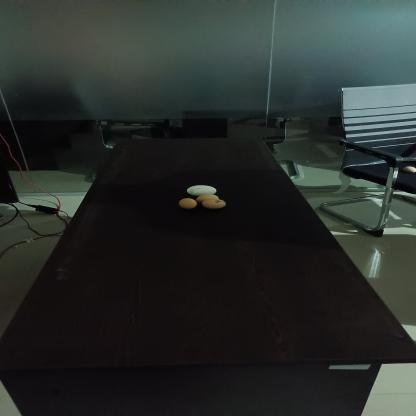egg: (186, 184, 217, 196), (179, 196, 197, 209), (203, 199, 226, 209), (196, 192, 219, 202)
